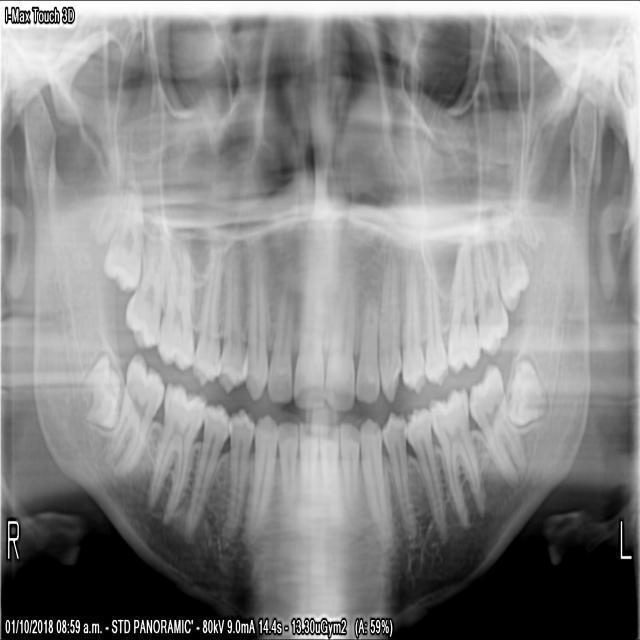LCD: (356, 412, 390, 546)
LCU: (375, 242, 399, 403)
LID: (337, 418, 358, 526), (316, 420, 337, 527)
LIU: (321, 243, 355, 414), (353, 246, 379, 404)
LMD: (424, 380, 483, 529), (465, 357, 526, 487), (504, 354, 545, 427)
LMU: (444, 234, 480, 375), (473, 232, 508, 358), (490, 213, 529, 313)
LPMD: (400, 398, 447, 543), (377, 405, 413, 535)
LPMU: (421, 243, 448, 388), (399, 247, 424, 395)
RCD: (243, 409, 277, 536)
RCU: (237, 233, 268, 403)
RID: (273, 416, 297, 525), (296, 417, 318, 522)
RIU: (290, 239, 323, 408), (264, 252, 294, 404)
RMD: (144, 376, 207, 519), (100, 348, 164, 478), (76, 349, 121, 429)
RMU: (99, 172, 145, 296), (121, 229, 165, 351), (152, 242, 193, 371)
RPMD: (182, 397, 232, 534), (221, 401, 254, 535)
RPMU: (213, 238, 246, 394), (188, 239, 222, 387)
